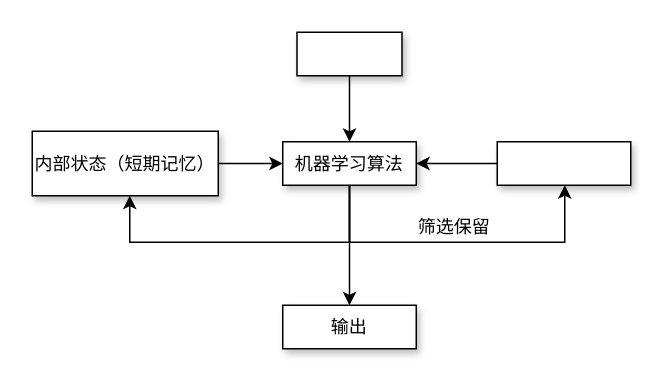
Image size: 666x386. Some labels were removed from this diagram. The centre of each missing label's shape, as x and y in pixels:
"输入" belongs at point (350, 55).
"长期记忆" belongs at point (565, 165).
